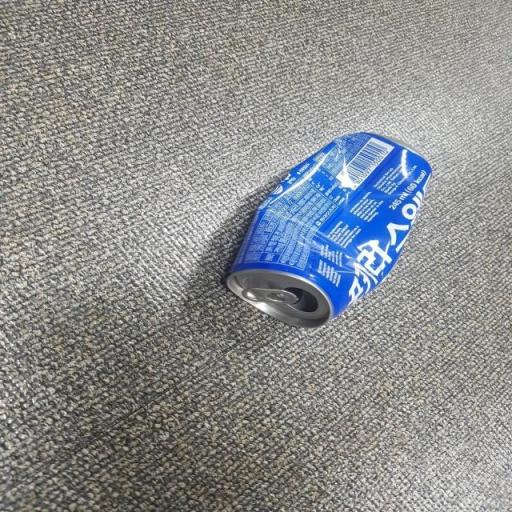metal: (204, 122, 458, 336)
